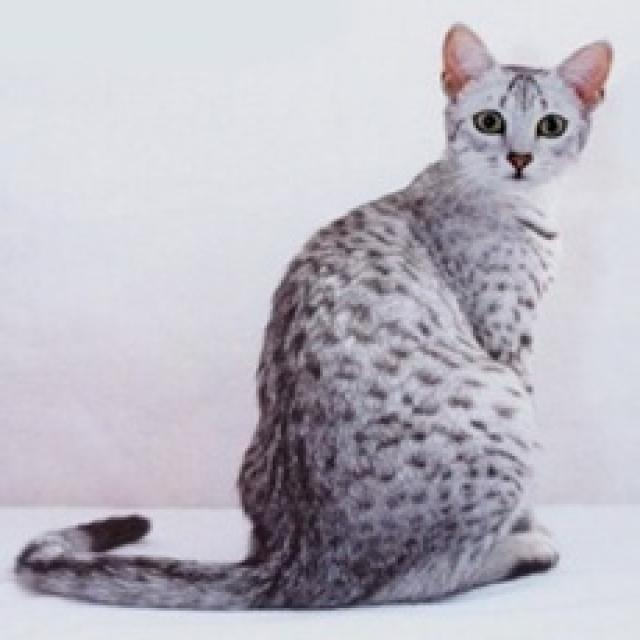Egyptian_Mau: (437, 11, 617, 199)
